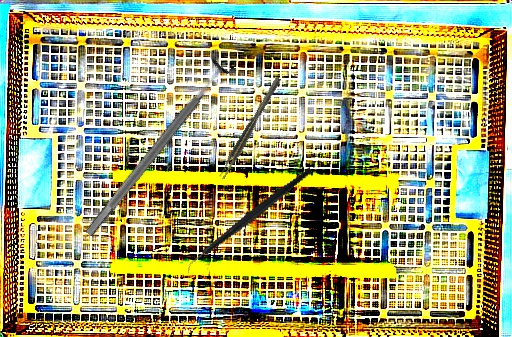Chopper: (167, 165, 332, 279)
Fixation Ring: (74, 48, 239, 246)
Tissue Forceps: (217, 76, 284, 181)
